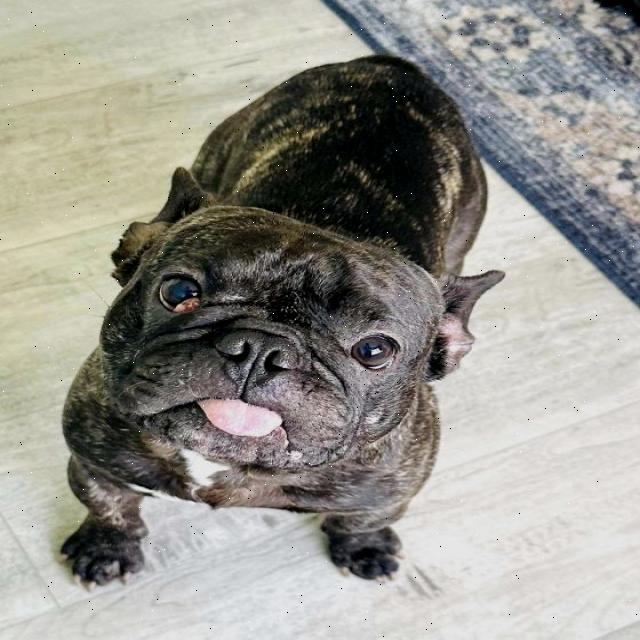french_bulldog_dog: (51, 158, 504, 486)
